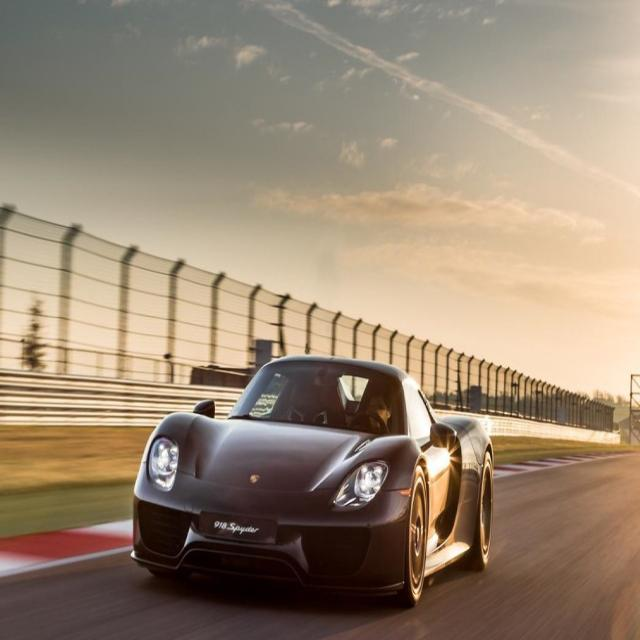front_bumper: (130, 485, 410, 601)
front_glass: (222, 354, 412, 436)
front_left_side_light: (331, 458, 390, 514)
front_left_side_mirror: (421, 420, 458, 459)
front_right_side_light: (144, 432, 180, 498)
front_right_side_mirror: (194, 396, 214, 423)
wheel: (393, 463, 430, 602), (469, 454, 497, 572)
